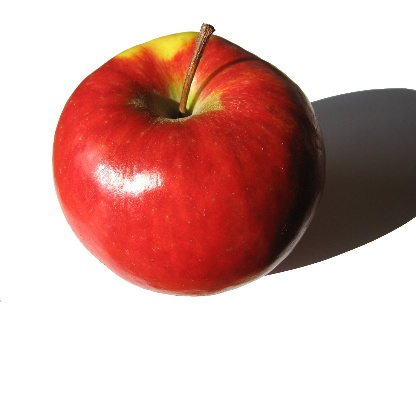tao: (51, 37, 335, 296)
